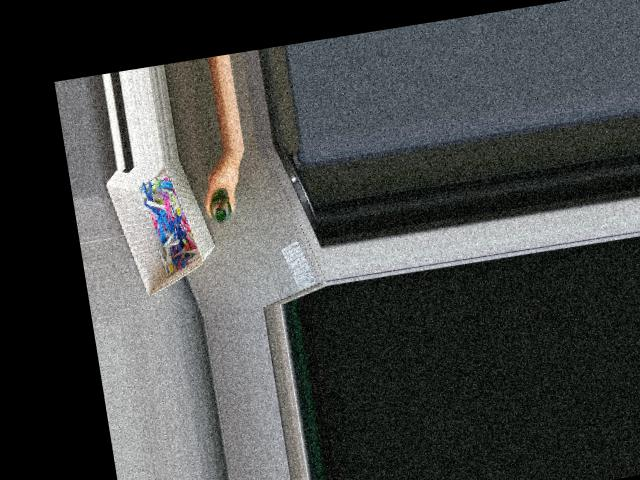beer: (208, 191, 233, 224)
